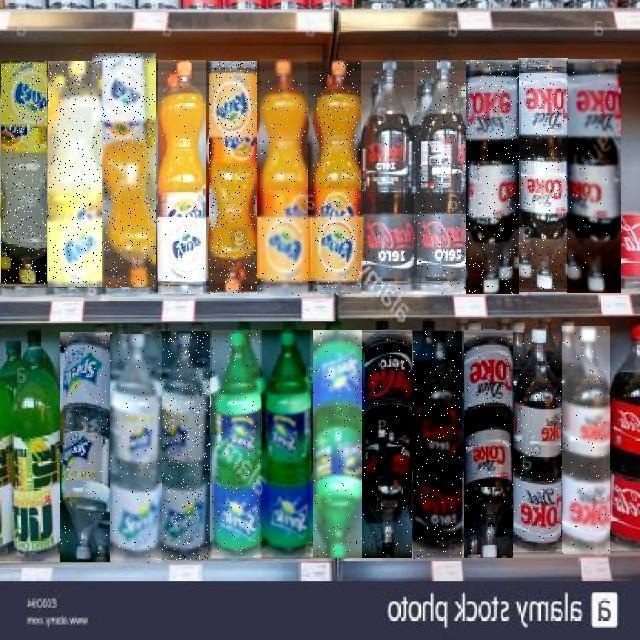Drinks: (92, 53, 156, 287), (567, 59, 621, 293), (466, 60, 519, 294), (361, 60, 414, 294), (49, 61, 103, 287), (414, 60, 466, 294), (60, 332, 112, 562), (110, 334, 162, 563), (518, 59, 568, 293), (362, 330, 412, 558), (260, 59, 308, 296), (313, 60, 361, 294), (209, 62, 257, 296), (159, 60, 207, 294), (161, 331, 210, 560), (464, 330, 513, 558), (413, 332, 462, 560), (313, 330, 362, 558), (514, 328, 563, 554), (262, 330, 310, 559), (562, 326, 610, 554), (212, 330, 260, 558), (1, 61, 47, 284)
